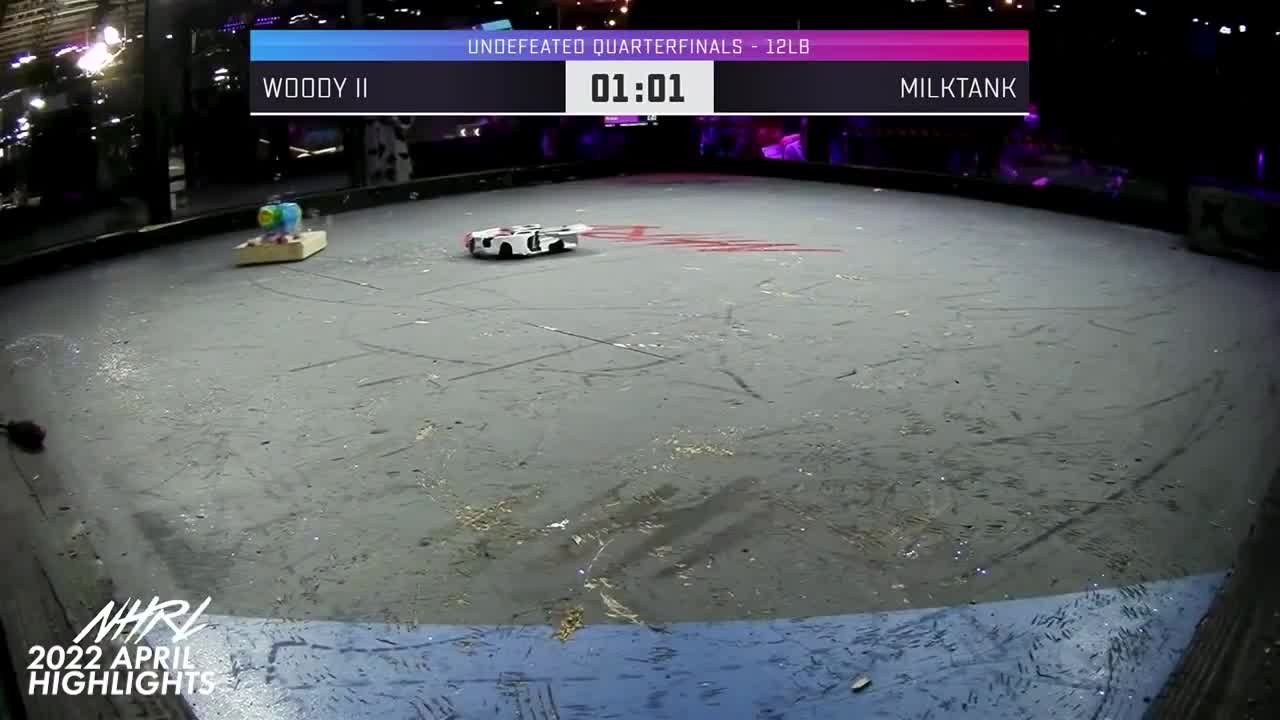combatbot: (232, 202, 331, 266), (459, 225, 583, 258)
debris: (1, 417, 48, 453)
housebot: (1185, 178, 1280, 270)
